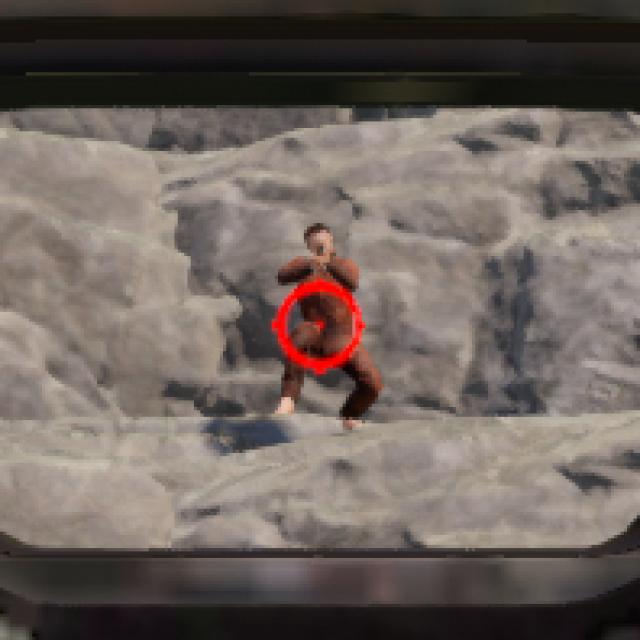Player: (275, 226, 383, 417)
